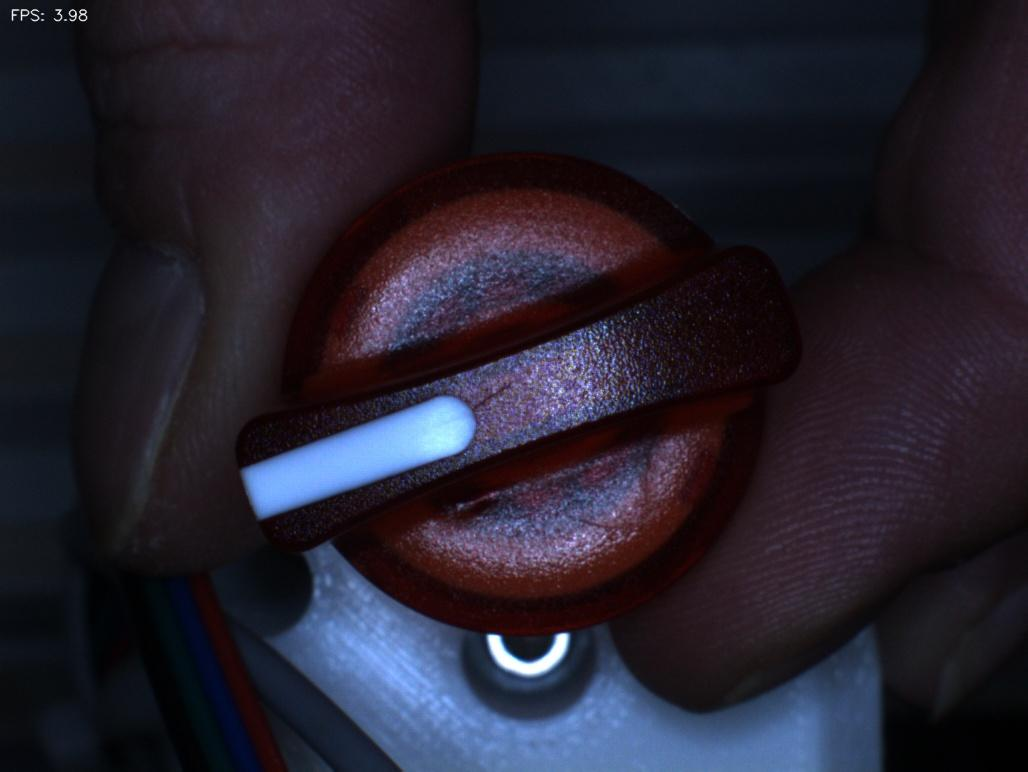Choc: (418, 472, 523, 552)
